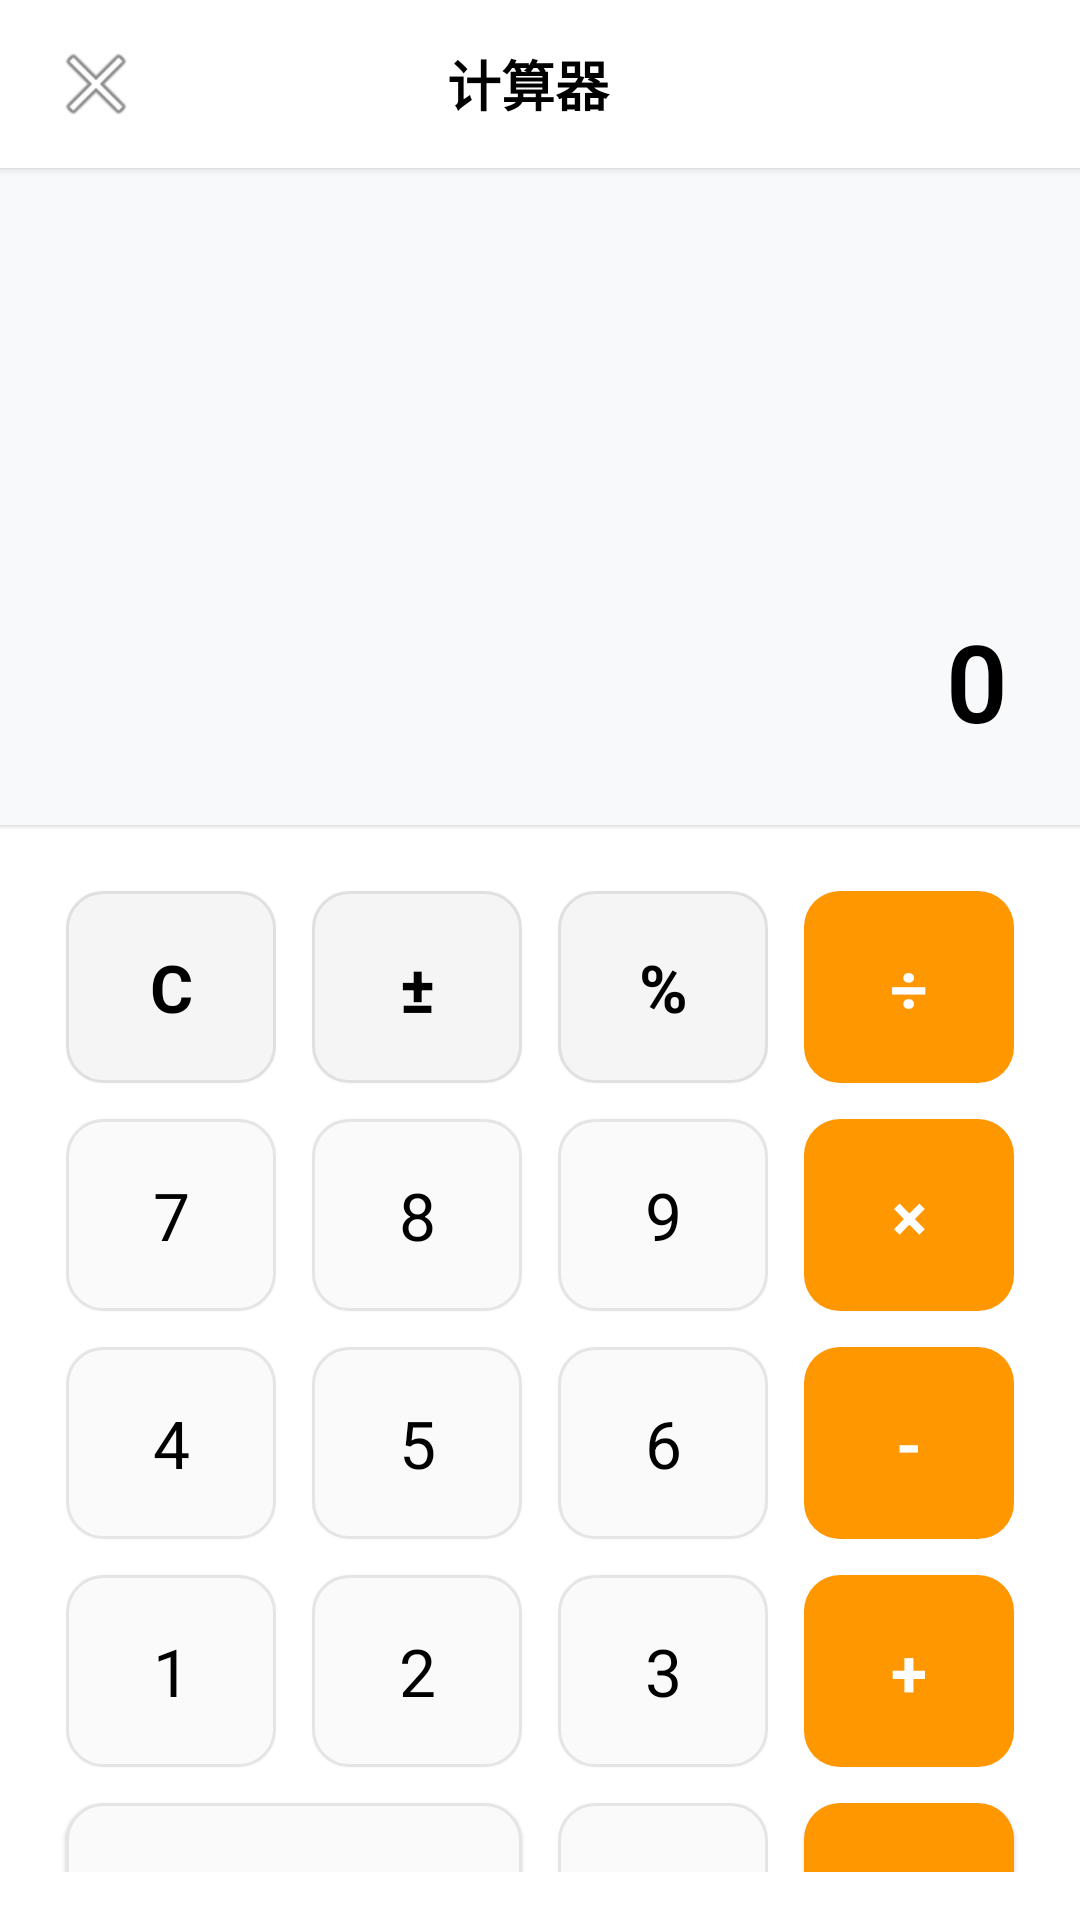

Icon bounding boxes for this 1080 x 1920 phone screenshot, format (x1, y1, x2, y2):
返回: (66, 54, 126, 114)
